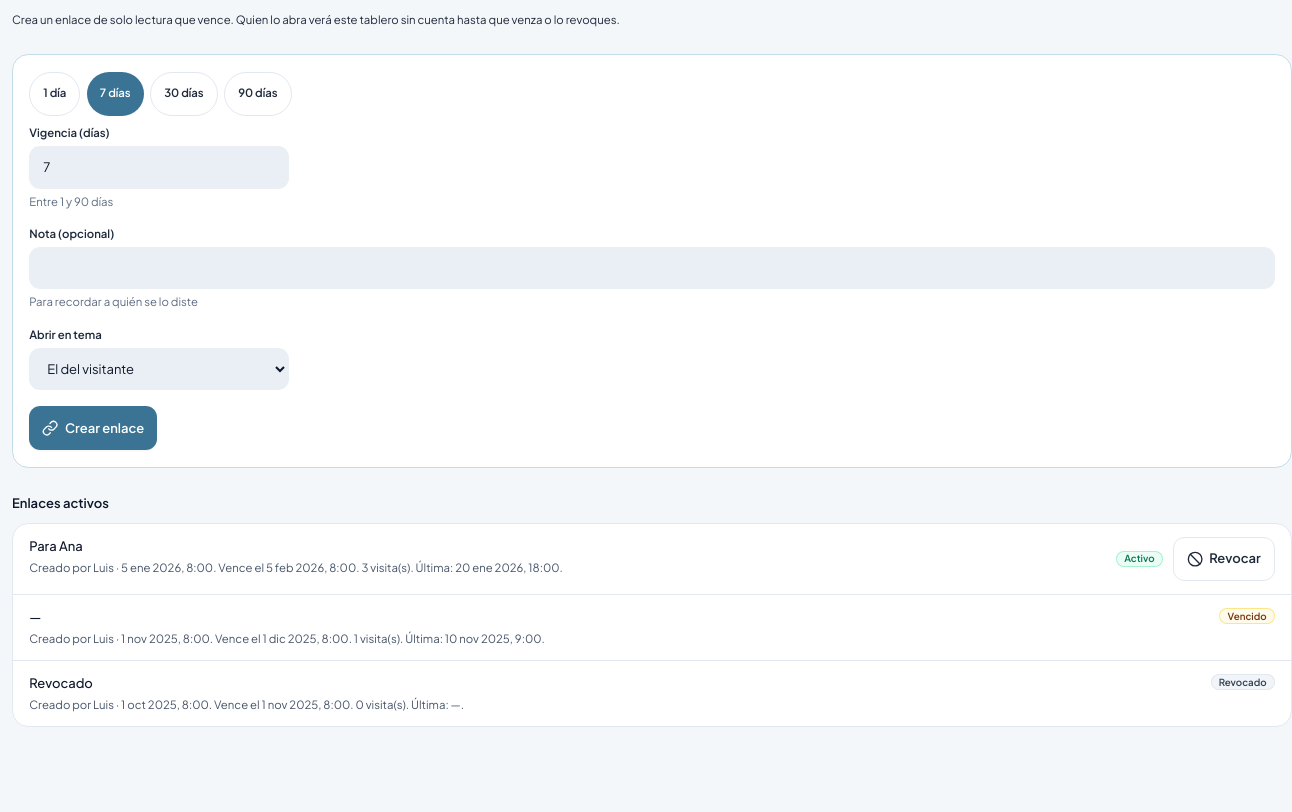
Scenario: ShareLinksPanel › surfaces 422 days error under the days input
Step 1. Click the button "Crear enlace" → {"x": 93, "y": 428}, box [29,406,157,450]
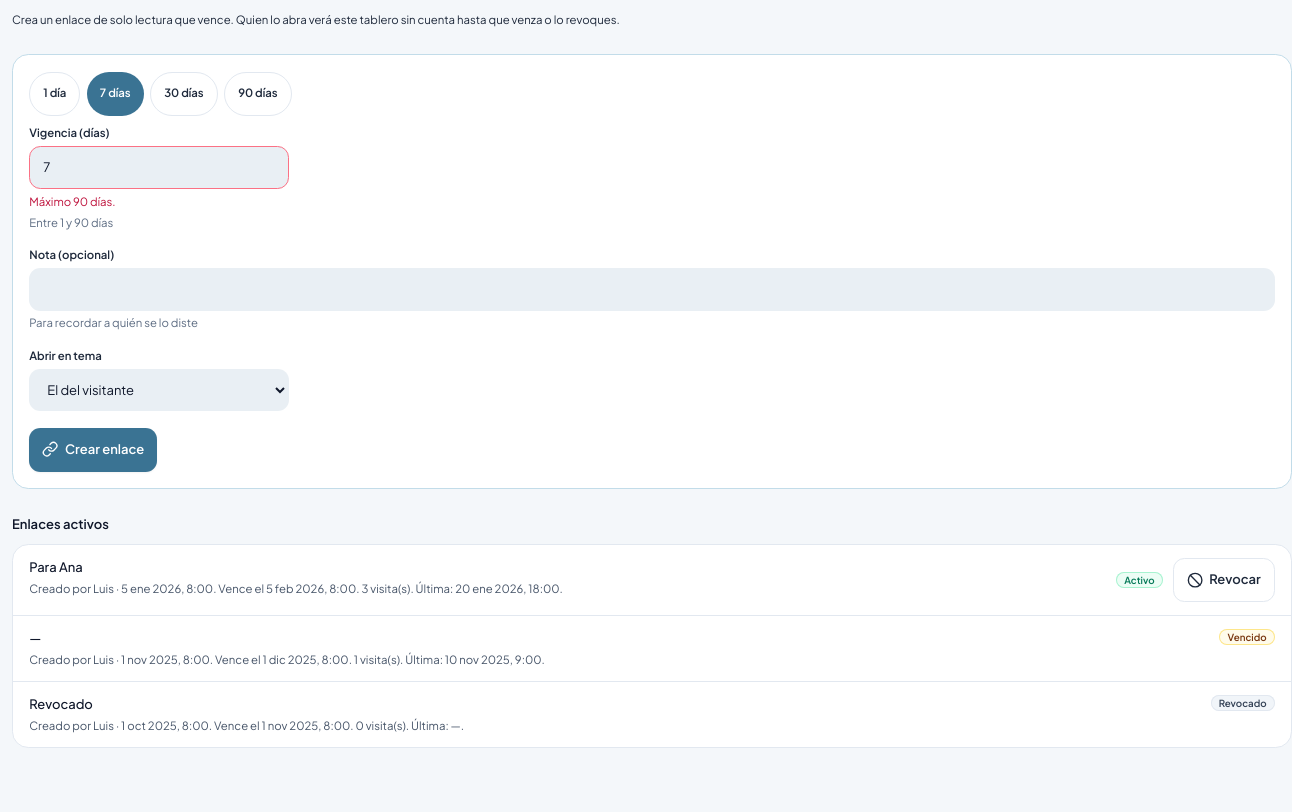
Expected: the text "Máximo 90 días." is shown, [29,194,116,208]
